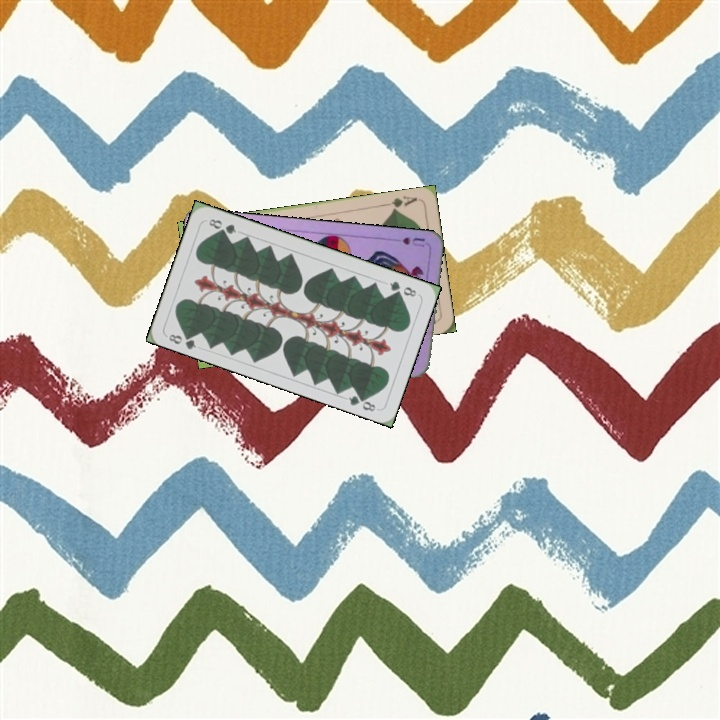G8: (165, 328, 199, 352), (385, 277, 419, 299)
GA: (380, 192, 419, 214)
SU: (387, 233, 428, 250)
